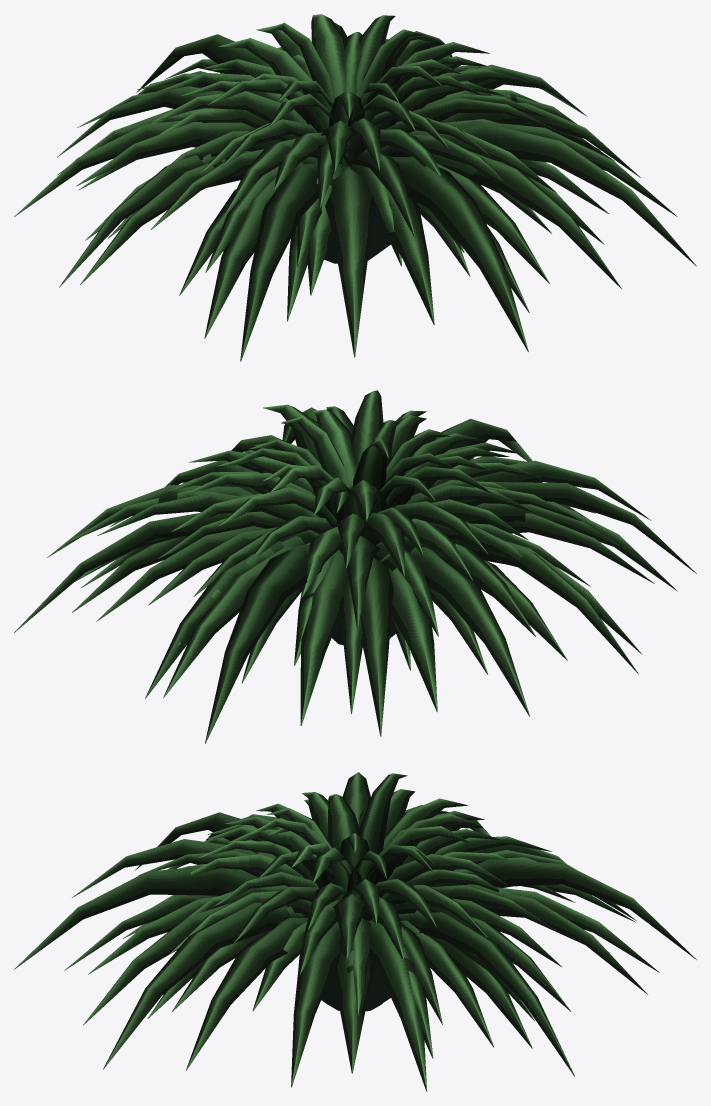
The model's file is ZonPlant08.glb.
The picture shows the model from 3 angles, top to bottom: view 1: azimuth 30°, elevation 25°; view 2: azimuth 150°, elevation 25°; view 3: azimuth 270°, elevation 25°; orthographic projection. The views are drawn at different scales.
Visible parts, largest first — view 1: ZonPlant08_leaves; view 2: ZonPlant08_leaves; view 3: ZonPlant08_leaves.
Boxes of the visible parts, x1,y1,x2,y2 form: ZonPlant08_leaves: [14, 14, 696, 361]; ZonPlant08_leaves: [14, 390, 696, 743]; ZonPlant08_leaves: [14, 772, 696, 1091].
Bounding box in the file's own units: 3.37 × 1.31 × 3.79.
2 materials, 1 textured.
